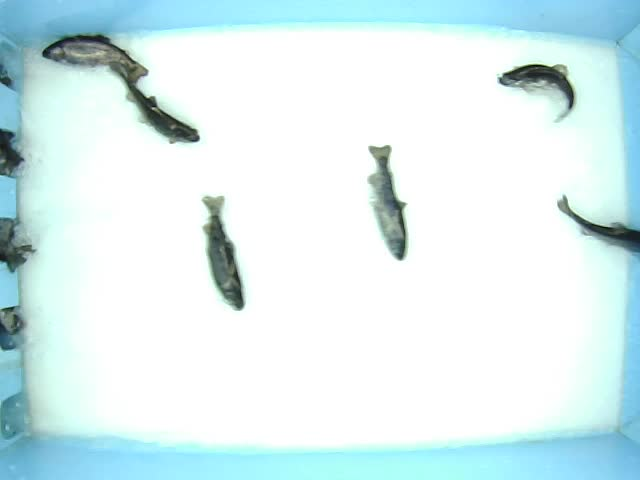fish: (116, 65, 236, 168), (355, 144, 420, 272), (193, 191, 247, 316), (489, 55, 596, 116), (545, 198, 640, 263), (35, 35, 136, 70)
